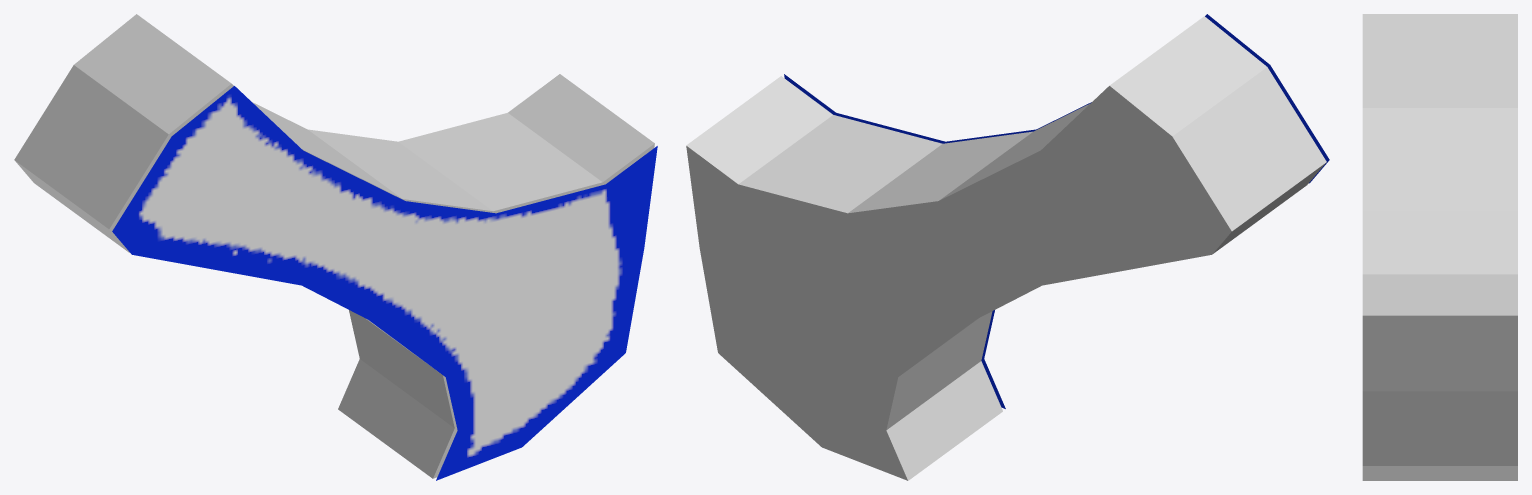
3 renders of one model, left to right at view 1: azimuth 30°, elevation 25°; view 2: azimuth 150°, elevation 25°; view 3: azimuth 270°, elevation 25°, orthographic. The views are drawn at different scales.
Parts seen in each view (by area): view 1: In_7_1, In_7_0; view 2: In_7_0, In_7_1; view 3: In_7_0.
Boxes of the visible parts, <box> form: In_7_1: <box>112,86,657,480</box>; In_7_0: <box>14,14,654,478</box>; In_7_0: <box>686,16,1326,480</box>; In_7_1: <box>784,14,1329,408</box>; In_7_0: <box>1362,14,1517,480</box>.
Bounding box in the file's own units: 1.66 × 1.29 × 0.515.
Materials: 2 (1 with a texture image).
